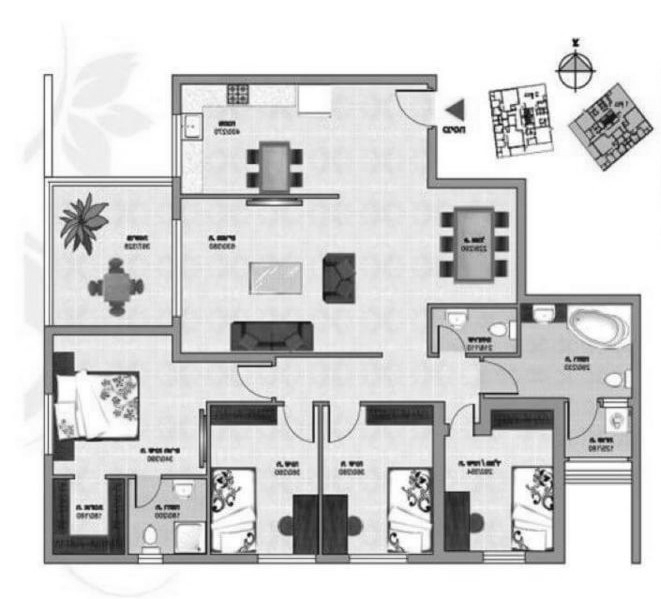door: (280, 407, 315, 447), (325, 409, 361, 446), (486, 359, 522, 396), (393, 86, 425, 124), (235, 363, 269, 397), (564, 408, 599, 441), (434, 323, 465, 352), (131, 481, 156, 511), (452, 398, 476, 421)
